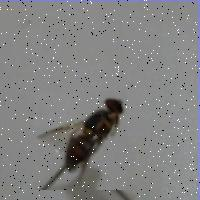Oriental-fruit-fly: (34, 91, 127, 190)
